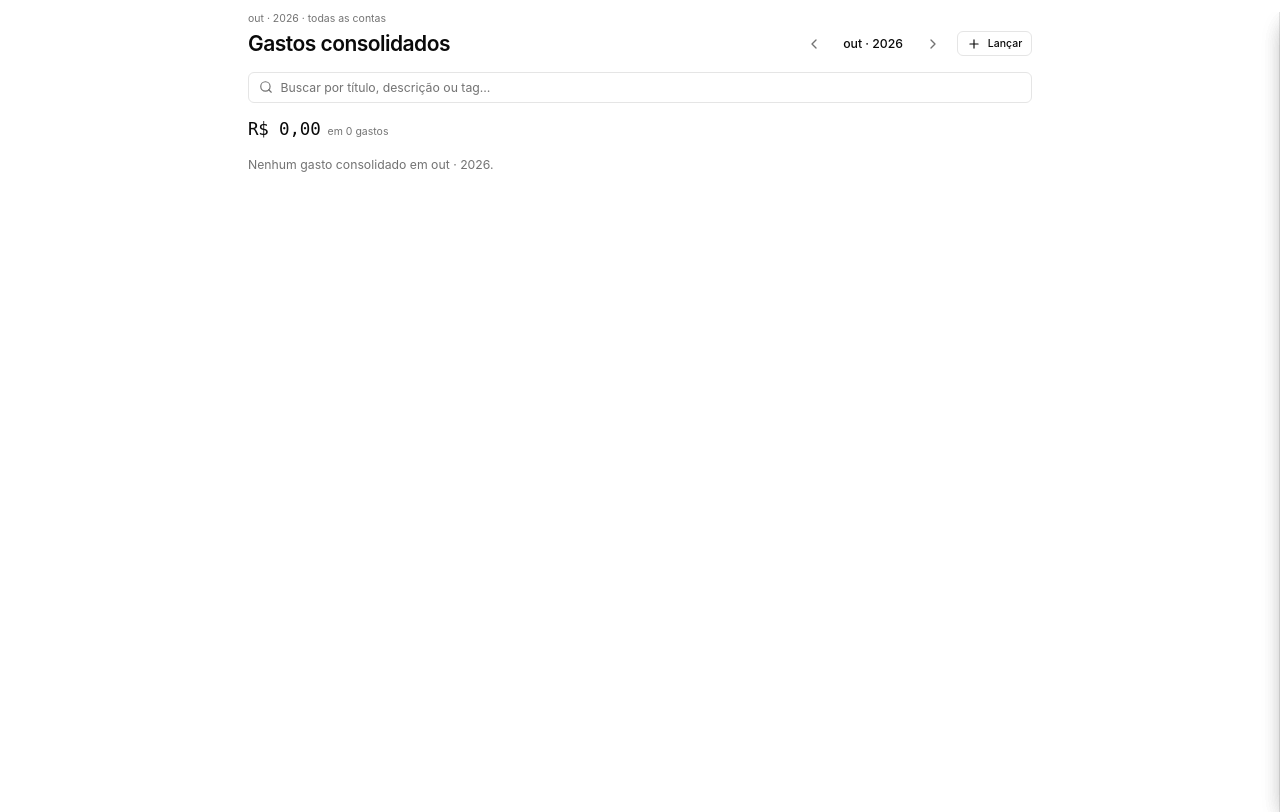
Scenario: <GastosPage /> › searches all consolidated by query (no month range) when typing
In the field with test id "gastos-search": (640, 87) left=248, top=72, right=1032, bottom=103, type "mercado"
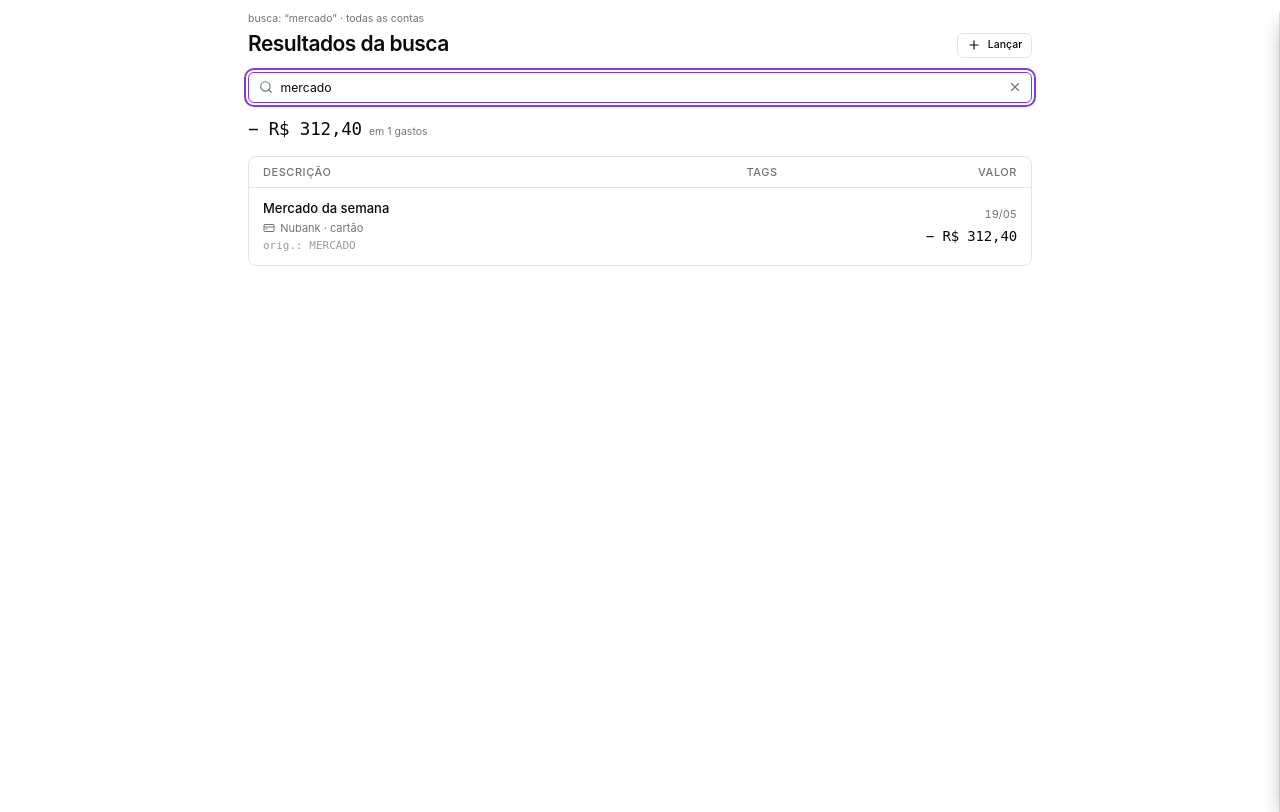
Expected: the text "Mercado da semana" is shown, left=263, top=198, right=389, bottom=218
